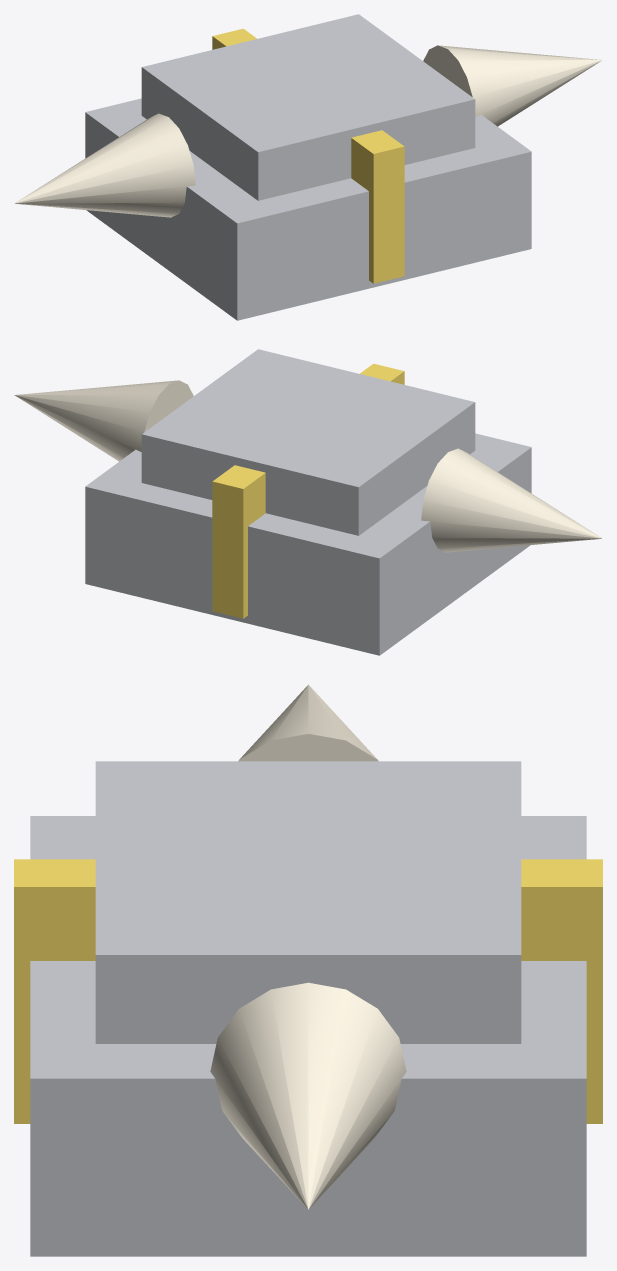
Rendered from hat_viking.gltf.
The picture shows the model from 3 angles, top to bottom: view 1: azimuth 30°, elevation 25°; view 2: azimuth 150°, elevation 25°; view 3: azimuth 270°, elevation 25°; orthographic projection. The views are drawn at different scales.
Parts seen in each view (by area): view 1: hat_viking; view 2: hat_viking; view 3: hat_viking.
Part boxes in pixels (box(x1,y1,x2,y2)): hat_viking: box(14, 14, 602, 320); hat_viking: box(14, 349, 602, 655); hat_viking: box(14, 684, 602, 1256).
Size of the model in its own units: 0.76 by 0.18 by 0.36.
